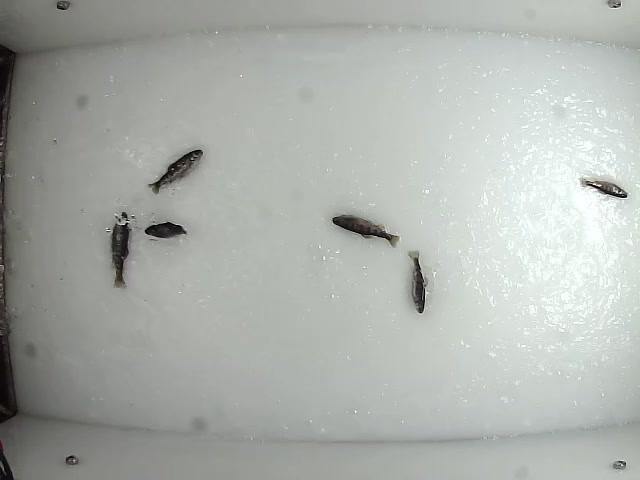fish: (147, 148, 204, 196), (329, 213, 401, 250), (107, 209, 135, 290), (579, 174, 629, 199), (143, 221, 189, 239)
